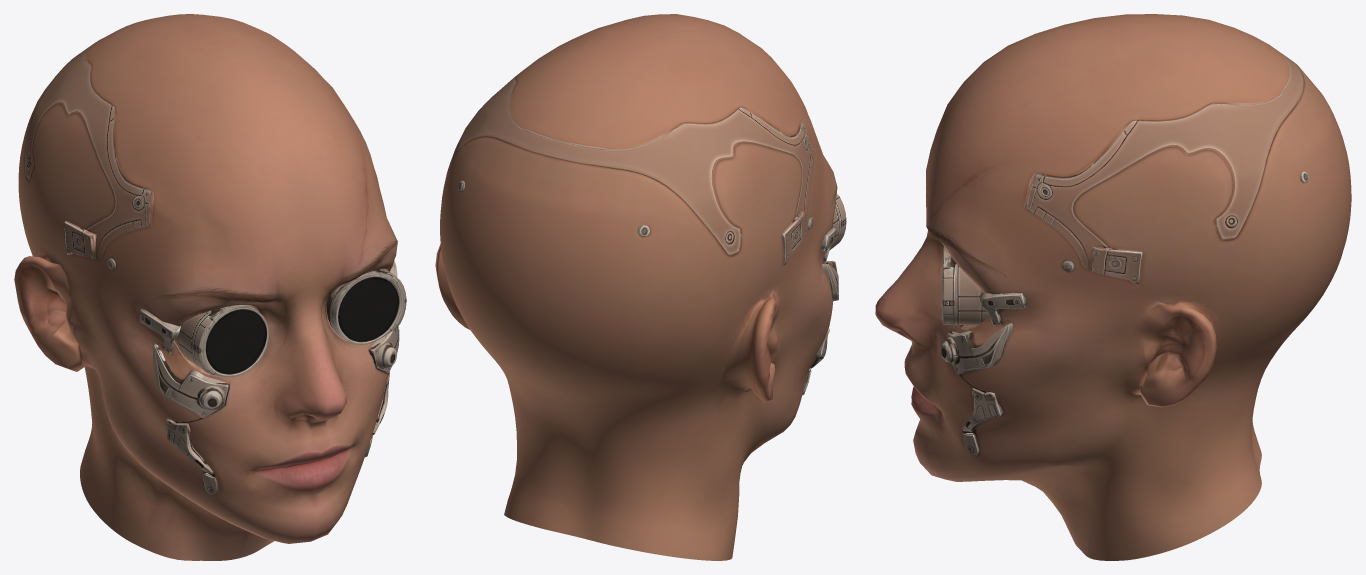
File: aletheia_head_low_v15.glb
The picture shows the model from 3 angles, left to right: view 1: azimuth 30°, elevation 25°; view 2: azimuth 150°, elevation 25°; view 3: azimuth 270°, elevation 25°; orthographic projection. The views are drawn at different scales.
Visible parts, largest first — view 1: skin_shell, eye_unit_R, eye_unit_L, cheek_bracket_R, jaw_blade_R, latch_R, l_bracket_R, cheek_knob_R, cheek_bracket_L; view 2: skin_shell, latch_R; view 3: skin_shell, eye_unit_L, cheek_bracket_L, latch_L, jaw_blade_L, l_bracket_L.
Part boxes in pixels (bbox=[...]): skin_shell: bbox=[14, 14, 397, 560]; eye_unit_R: bbox=[175, 305, 269, 377]; eye_unit_L: bbox=[327, 269, 406, 344]; cheek_bracket_R: bbox=[152, 343, 229, 417]; jaw_blade_R: bbox=[166, 419, 213, 474]; latch_R: bbox=[64, 220, 96, 258]; l_bracket_R: bbox=[139, 308, 180, 353]; cheek_knob_R: bbox=[197, 386, 225, 410]; cheek_bracket_L: bbox=[369, 325, 399, 373]; skin_shell: bbox=[435, 14, 837, 560]; latch_R: bbox=[782, 211, 806, 266]; skin_shell: bbox=[875, 14, 1351, 560]; eye_unit_L: bbox=[941, 246, 988, 325]; cheek_bracket_L: bbox=[947, 323, 1012, 374]; latch_L: bbox=[1092, 246, 1142, 285]; jaw_blade_L: bbox=[962, 388, 1003, 432]; l_bracket_L: bbox=[979, 292, 1026, 325].
Size of the model in its own units: 0.1543 by 0.232 by 0.1963.
Materials: 1 (1 with a texture image).
